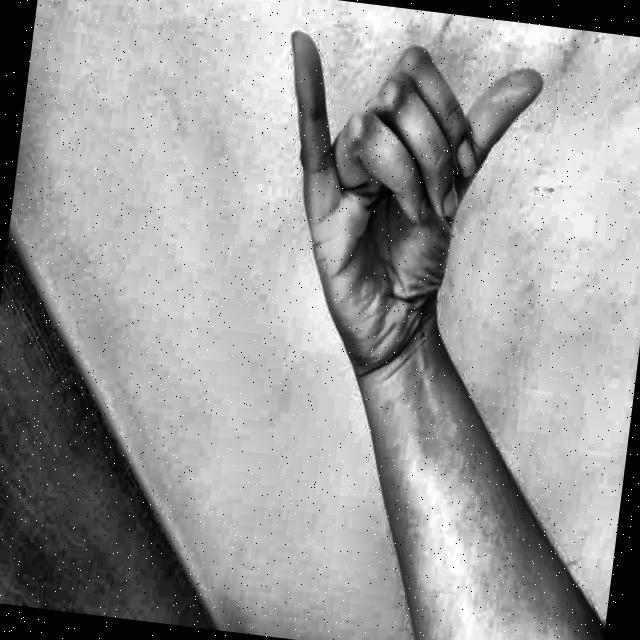Oi: (230, 2, 561, 419)
